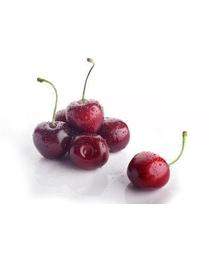cherry: (126, 152, 170, 191), (32, 121, 75, 160), (70, 134, 108, 169), (65, 100, 103, 132), (97, 118, 129, 150)
